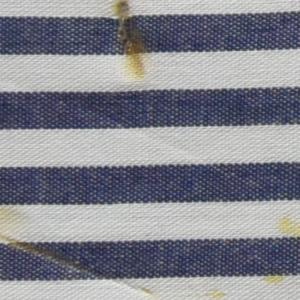Oil Stain: (1, 207, 160, 300), (110, 1, 151, 82)
Stain: (275, 214, 300, 242), (263, 271, 289, 286), (204, 287, 228, 300)
Wrinkle: (82, 100, 254, 189)
